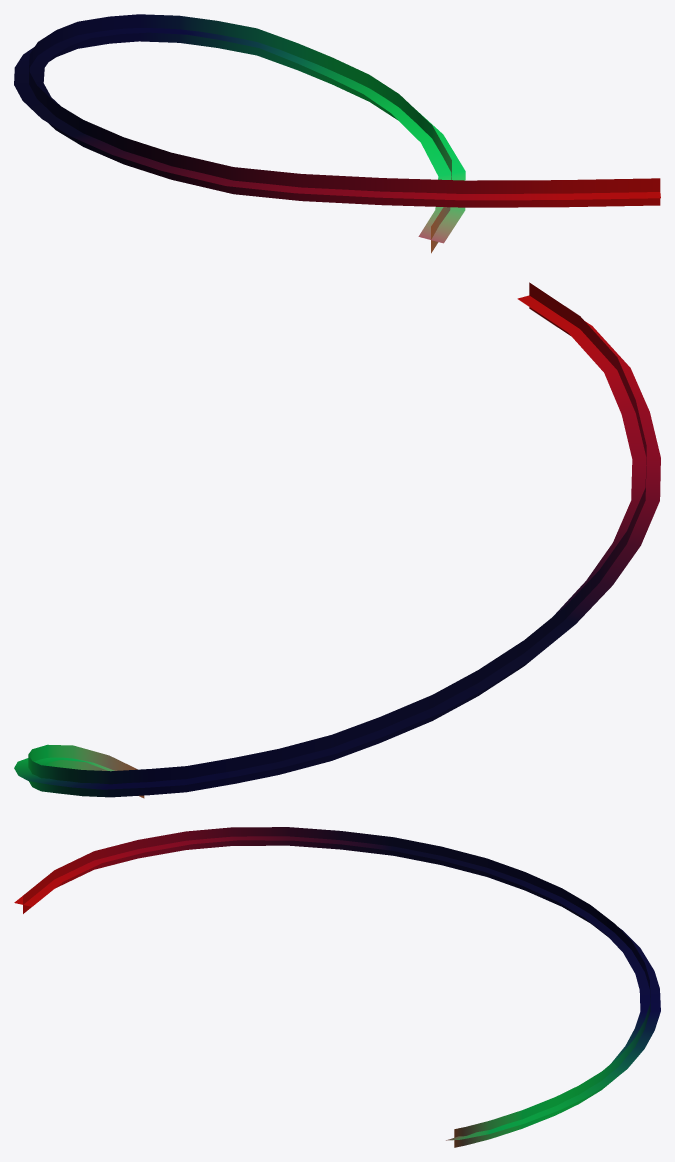
Rendered from uni_spiral.fbx.
The picture shows the model from 3 angles, top to bottom: view 1: azimuth 30°, elevation 25°; view 2: azimuth 150°, elevation 25°; view 3: azimuth 270°, elevation 25°; orthographic projection. The views are drawn at different scales.
Visible parts, largest first — view 1: uni_spiral; view 2: uni_spiral; view 3: uni_spiral.
Part boxes in pixels (bbox=[...]): uni_spiral: bbox=[14, 14, 660, 253]; uni_spiral: bbox=[14, 282, 660, 798]; uni_spiral: bbox=[14, 827, 660, 1147].
Bounding box in the file's own units: 28829 × 50307 × 19200.
